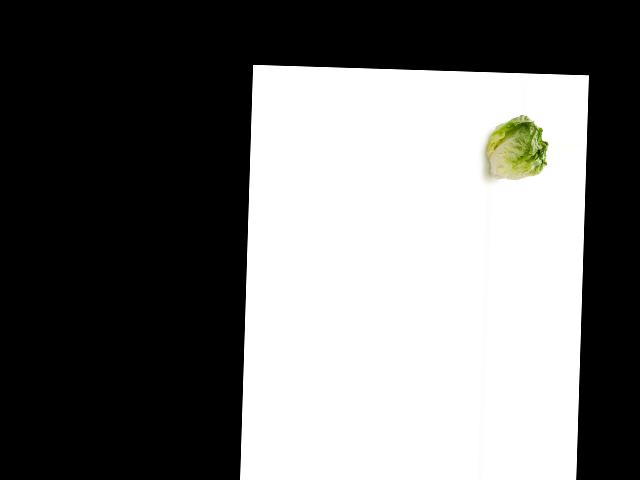lettuce: (486, 110, 551, 185)
